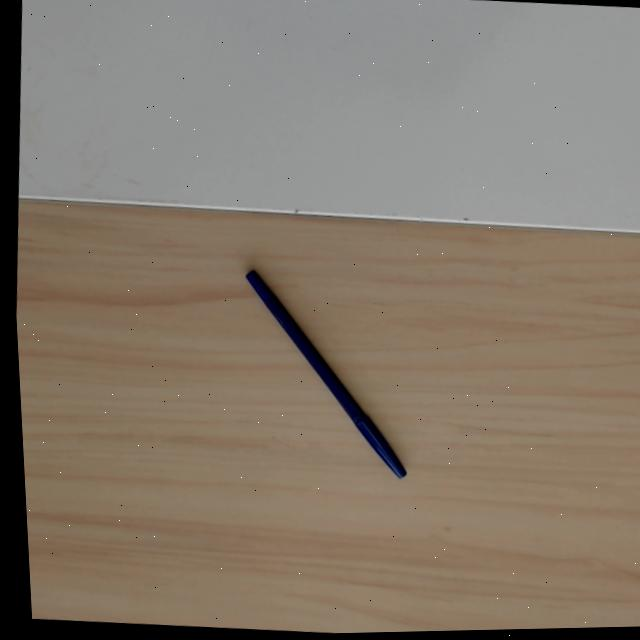Pulpen-Biru: (241, 268, 411, 482)
